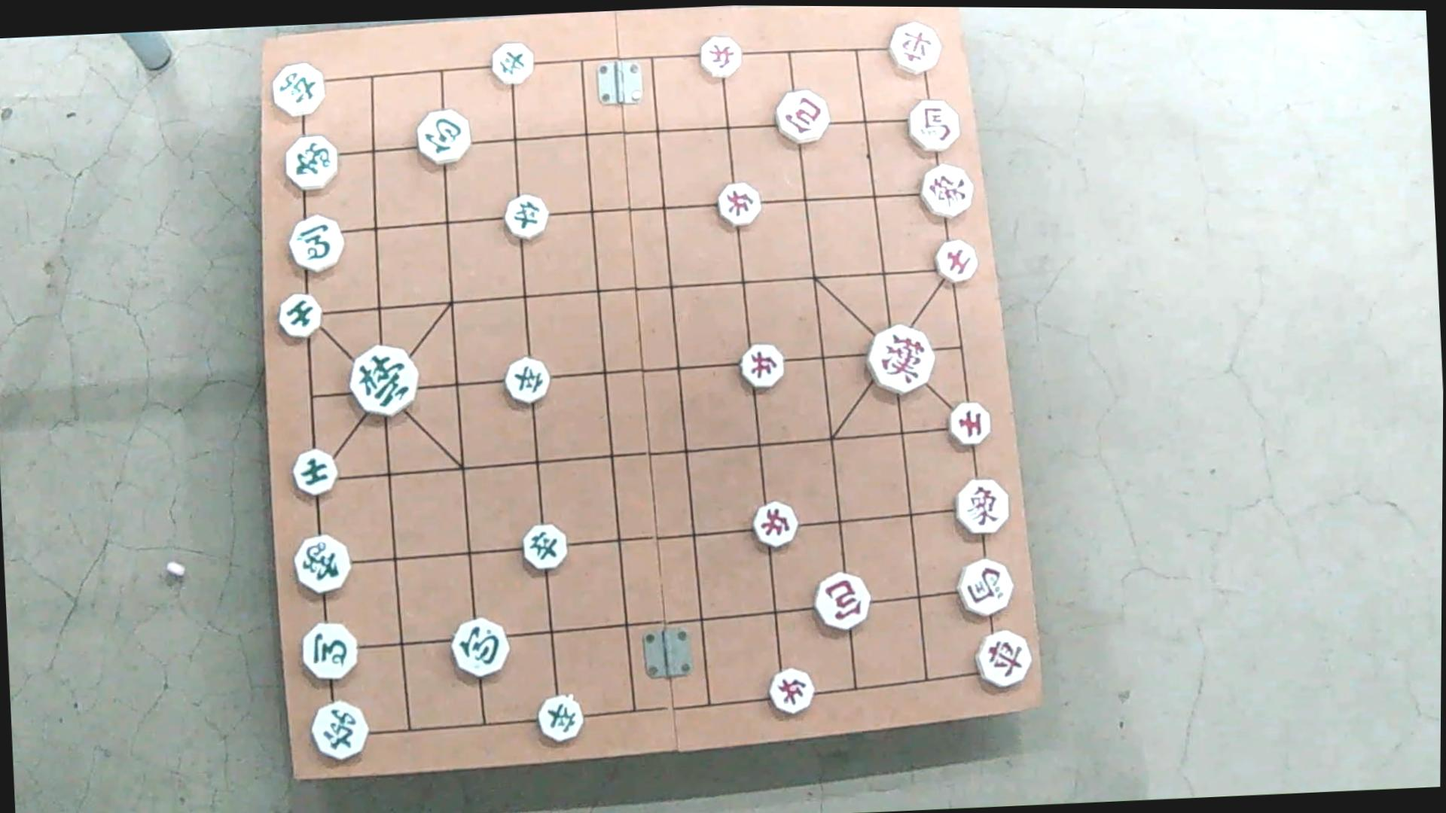cha_green: (310, 698, 370, 763), (271, 61, 325, 117)
cha_red: (971, 628, 1031, 689), (887, 23, 942, 72)
jol_green: (536, 692, 584, 741), (519, 526, 566, 570), (503, 356, 550, 400), (505, 196, 550, 240), (490, 42, 536, 85)
jol_red: (753, 502, 801, 549), (767, 666, 817, 711), (735, 343, 784, 388), (714, 181, 761, 224), (695, 35, 740, 78)
ma_green: (298, 620, 359, 679), (287, 216, 346, 272)
ma_red: (952, 557, 1017, 615), (907, 99, 962, 153)
po_green: (450, 614, 511, 679), (413, 108, 471, 166)
po_red: (811, 571, 869, 630), (772, 91, 828, 144)
sa_green: (292, 449, 340, 495), (276, 292, 321, 335)
sa_red: (933, 236, 978, 283), (947, 400, 992, 446)
sang_green: (292, 534, 353, 595), (284, 134, 338, 189)
sang_red: (919, 162, 975, 221), (953, 480, 1011, 536)
wang_green: (348, 345, 420, 415)
wang_red: (864, 324, 936, 393)
